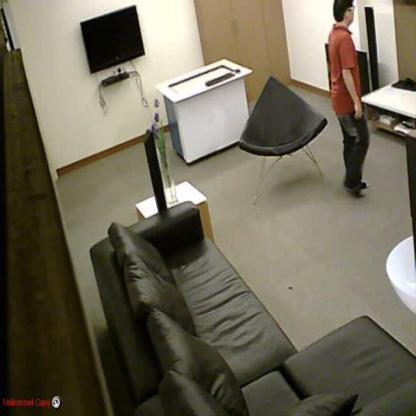Person: (328, 0, 368, 194)
